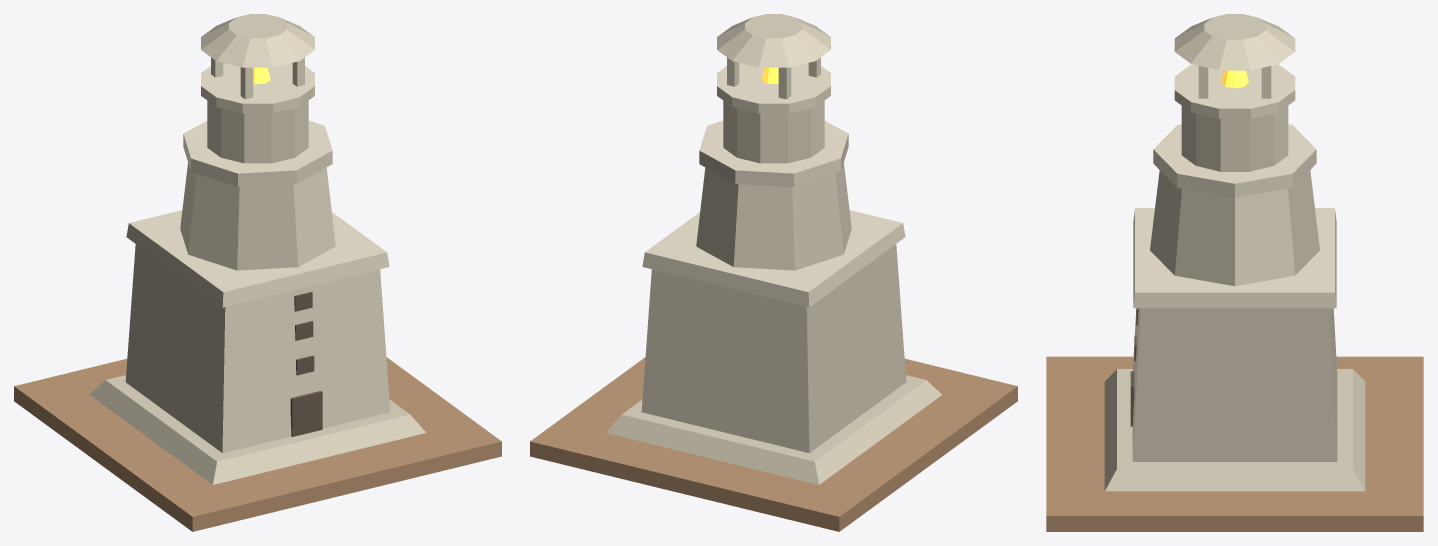
File: alexandria.glb
3 views of the same model, side by side, from view 1: azimuth 30°, elevation 25°; view 2: azimuth 150°, elevation 25°; view 3: azimuth 270°, elevation 25° (orthographic). The views are drawn at different scales.
Visible parts, largest first — view 1: Lighthouse of Alexandria; view 2: Lighthouse of Alexandria; view 3: Lighthouse of Alexandria.
Part boxes in pixels (x1,y1,x2,y2): Lighthouse of Alexandria: (14,14,501,531); Lighthouse of Alexandria: (530,14,1017,531); Lighthouse of Alexandria: (1046,14,1423,531).
Bounding box in the file's own units: 4.3 × 5.35 × 4.3.
